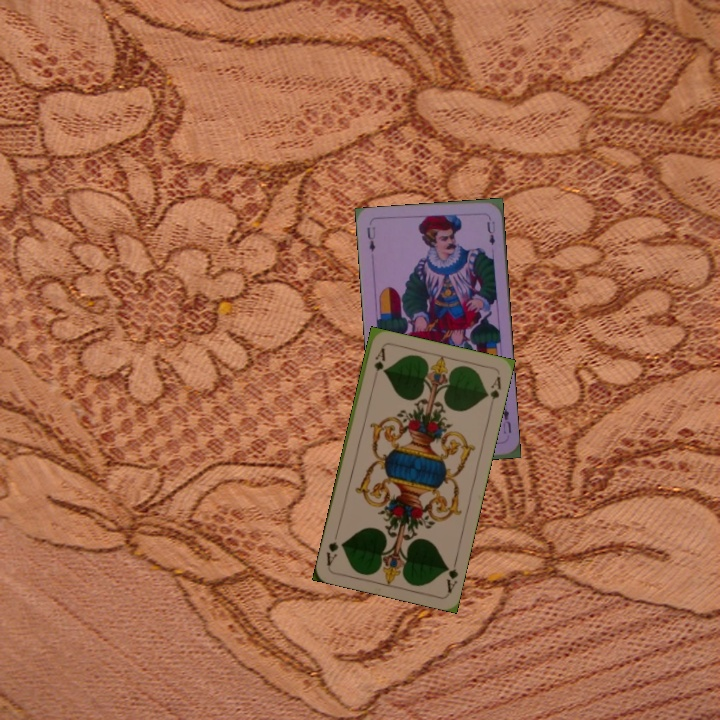EU: (499, 405, 514, 442), (363, 223, 378, 254)
GA: (441, 555, 461, 595), (369, 344, 388, 384)
